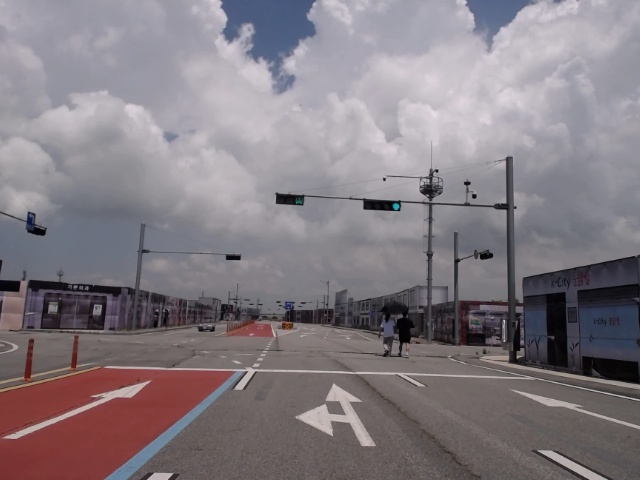straight_green_4: (363, 199, 402, 211)
